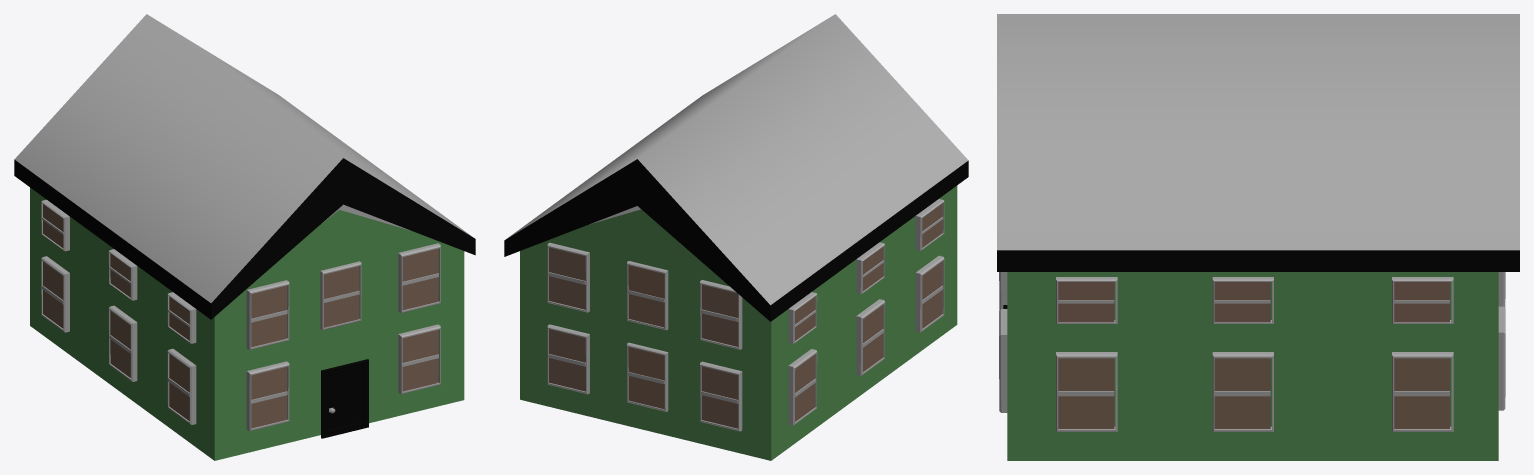
The model's file is House2.fbx.
3 renders of one model, left to right at view 1: azimuth 30°, elevation 25°; view 2: azimuth 150°, elevation 25°; view 3: azimuth 270°, elevation 25°, orthographic. The views are drawn at different scales.
Parts seen in each view (by area): view 1: pCube248, pSphere31, polySurface597, polySurface596, polySurface593, polySurface594, polySurface595, polySurface586, polySurface584, polySurface582, polySurface585, polySurface583 (+1 smaller); view 2: pCube248, polySurface575, polySurface576, polySurface578, polySurface579, polySurface577, polySurface580, polySurface586, polySurface582, polySurface584, polySurface585, polySurface581 (+1 smaller); view 3: pCube248, polySurface588, polySurface590, polySurface592, polySurface587, polySurface591, polySurface589, polySurface593, polySurface575.
Part boxes in pixels (box(x1,y1,x2,y2)): pCube248: box(14, 14, 475, 460); pSphere31: box(321, 359, 368, 438); polySurface597: box(246, 361, 289, 431); polySurface596: box(246, 280, 289, 349); polySurface593: box(398, 324, 440, 394); polySurface594: box(398, 243, 440, 312); polySurface595: box(320, 261, 361, 330); polySurface586: box(167, 348, 196, 424); polySurface584: box(108, 305, 137, 381); polySurface582: box(41, 256, 69, 332); polySurface585: box(167, 292, 196, 343); polySurface583: box(108, 249, 137, 300); pCube248: box(504, 14, 968, 460); polySurface575: box(547, 324, 589, 394); polySurface576: box(700, 361, 742, 431); polySurface578: box(547, 242, 589, 312); polySurface579: box(700, 280, 742, 349); polySurface577: box(627, 342, 668, 411); polySurface580: box(627, 261, 668, 330); polySurface586: box(915, 255, 944, 332); polySurface582: box(788, 349, 817, 425); polySurface584: box(856, 299, 884, 375); polySurface585: box(915, 199, 944, 250); polySurface581: box(788, 292, 817, 343); pCube248: box(997, 14, 1519, 460); polySurface588: box(1056, 352, 1117, 431); polySurface590: box(1212, 352, 1273, 431); polySurface592: box(1392, 352, 1453, 431); polySurface587: box(1056, 277, 1117, 323); polySurface591: box(1392, 277, 1453, 323); polySurface589: box(1212, 277, 1273, 323); polySurface593: box(999, 309, 1007, 412); polySurface575: box(1498, 306, 1505, 410).
Size of the model in its own units: 104 by 105 by 134.
